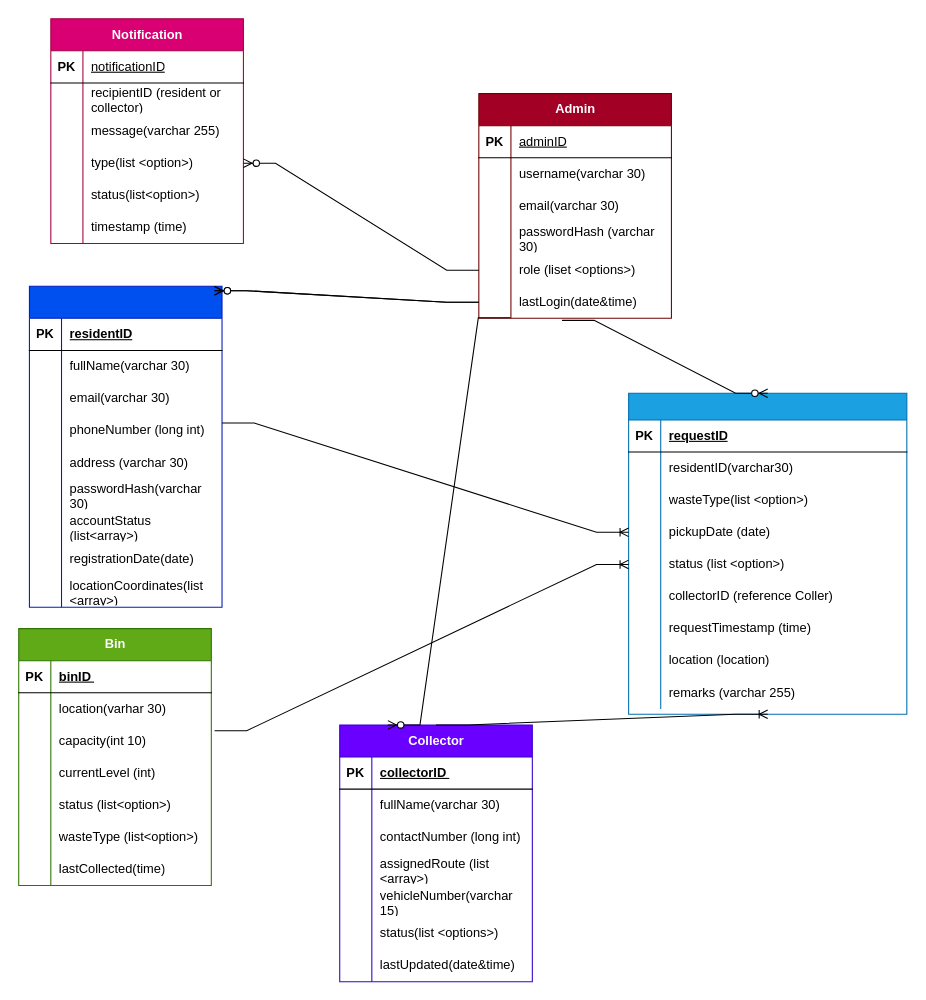
The diagram is 926 pixels wide and 1000 high, and some of its shapes have lost their labels. Here are the shapes that lost their labels. From the top down, the box of each, then its label:
(28, 285, 222, 607): Residents
(628, 392, 907, 714): WasteRequest (Pickup Request)
